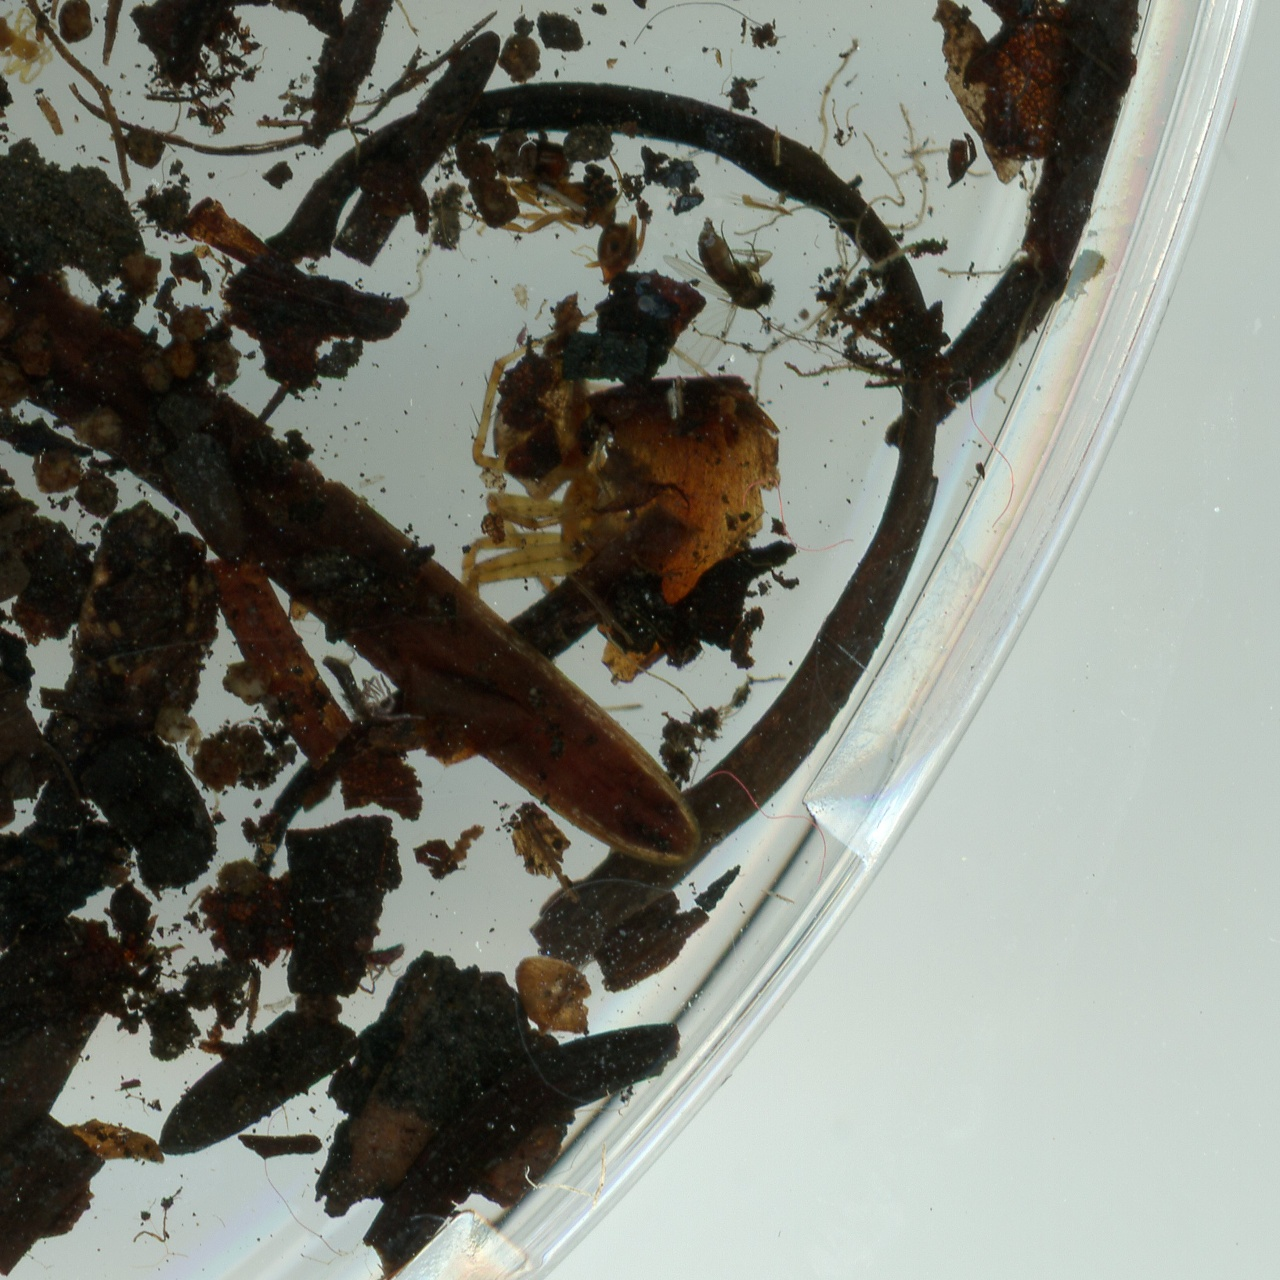arthropod: (461, 321, 665, 634), (468, 137, 648, 286), (665, 210, 778, 374), (320, 653, 422, 730), (0, 9, 57, 83), (353, 945, 407, 980)
